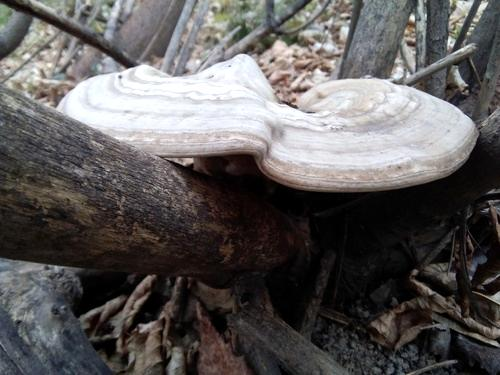Ganoderma - Fruit Body: (59, 56, 478, 192)
